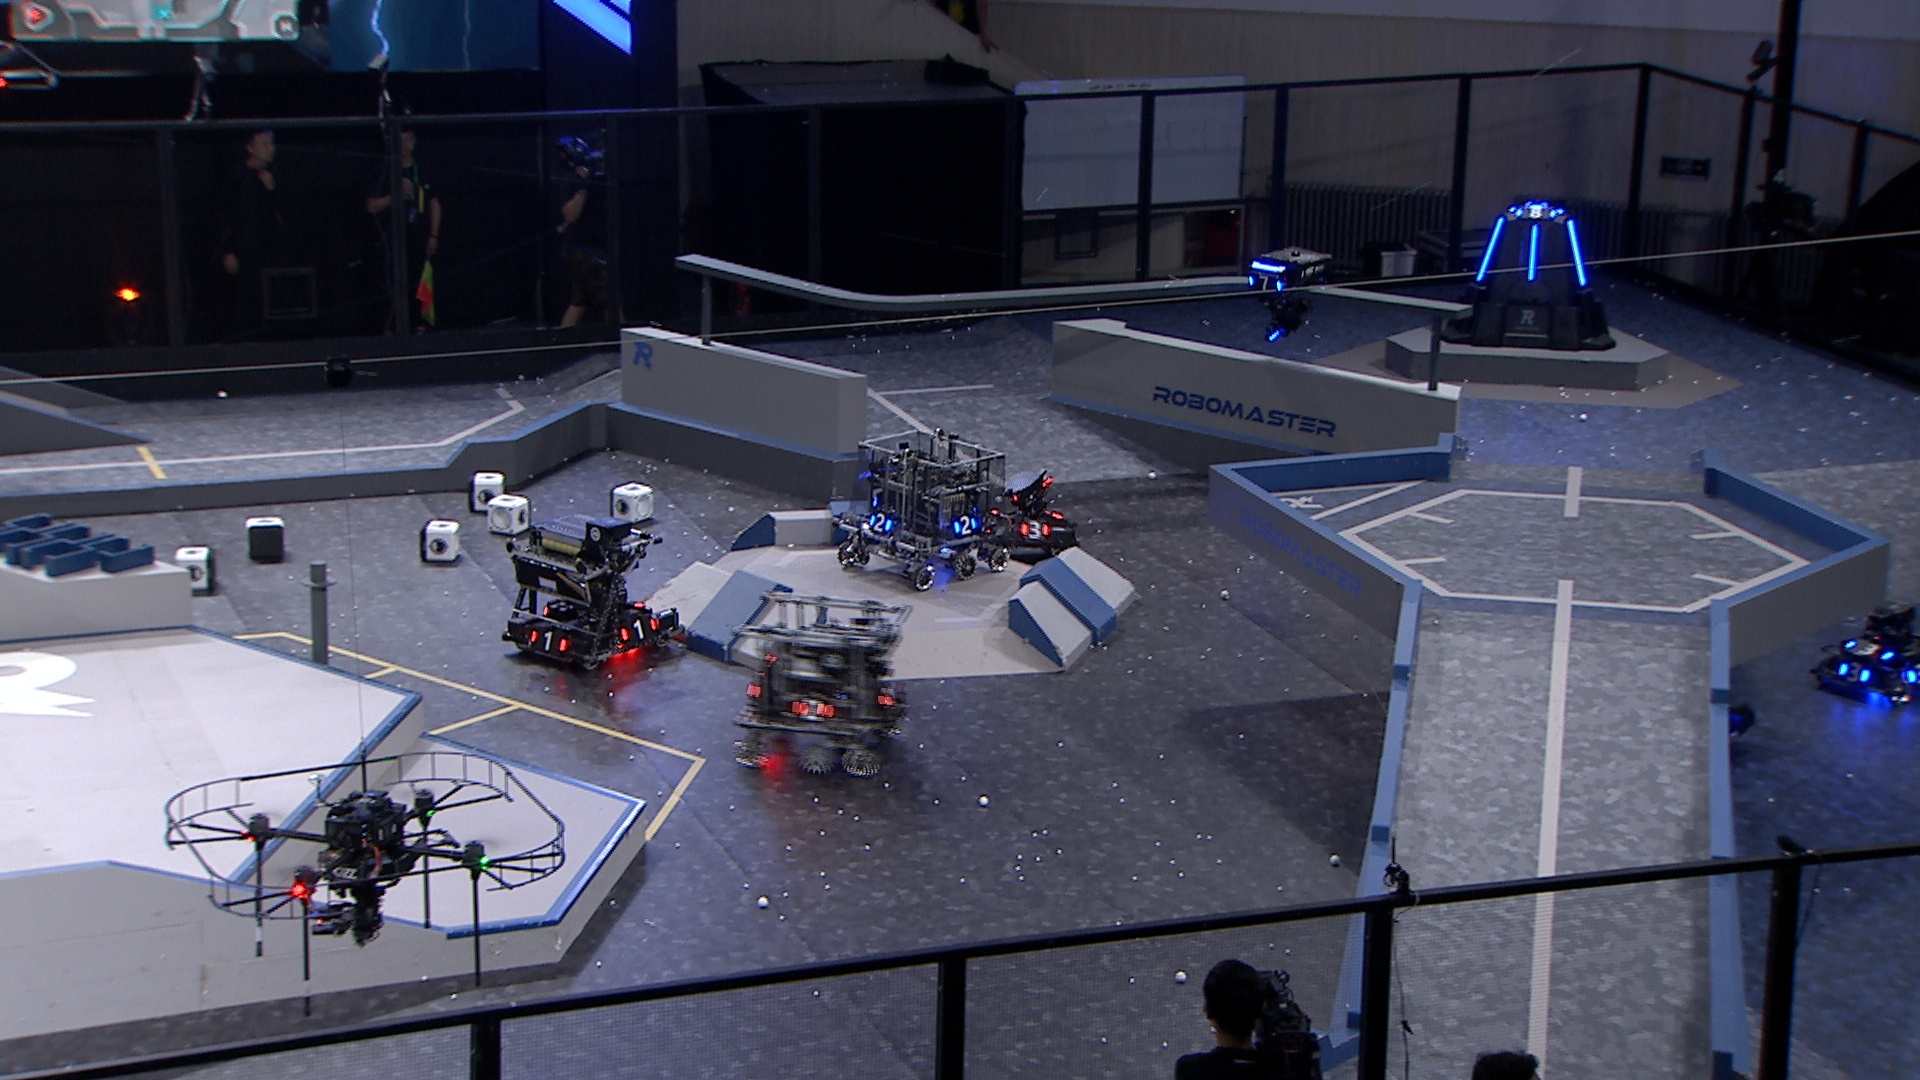armor: (1474, 215, 1506, 282), (1565, 218, 1590, 290), (615, 617, 662, 645), (790, 698, 836, 725), (526, 629, 571, 655), (1844, 638, 1896, 659), (1013, 518, 1054, 542), (1513, 202, 1557, 223), (1837, 661, 1873, 684), (866, 512, 895, 535), (1244, 276, 1286, 291), (1528, 224, 1539, 284), (951, 514, 977, 535), (880, 687, 899, 707), (1908, 665, 1920, 684)
base: (1429, 200, 1621, 351)
car: (728, 591, 916, 777), (500, 509, 688, 676), (829, 425, 1015, 585), (1813, 597, 1920, 703), (982, 469, 1083, 560)
watcher: (1236, 244, 1335, 338)
